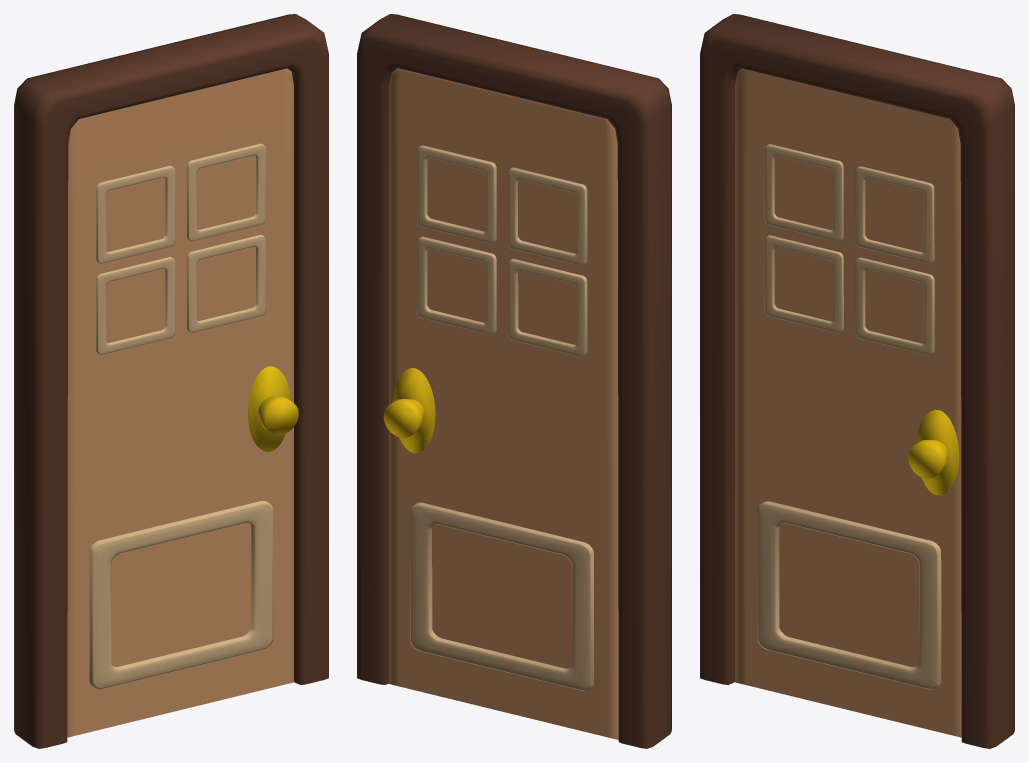
File: 3DModel_Door.glb
The picture shows the model from 3 angles, left to right: view 1: azimuth 30°, elevation 25°; view 2: azimuth 150°, elevation 25°; view 3: azimuth 330°, elevation 25°; orthographic projection.
Visible parts, largest first — view 1: Door.002; view 2: Door.002; view 3: Door.002.
Part boxes in pixels (bbox=[...]): Door.002: bbox=[14, 14, 328, 748]; Door.002: bbox=[357, 14, 671, 748]; Door.002: bbox=[700, 14, 1014, 748].
Size of the model in its own units: 0.9463 by 2 by 0.2628.
1 material, 1 textured.
